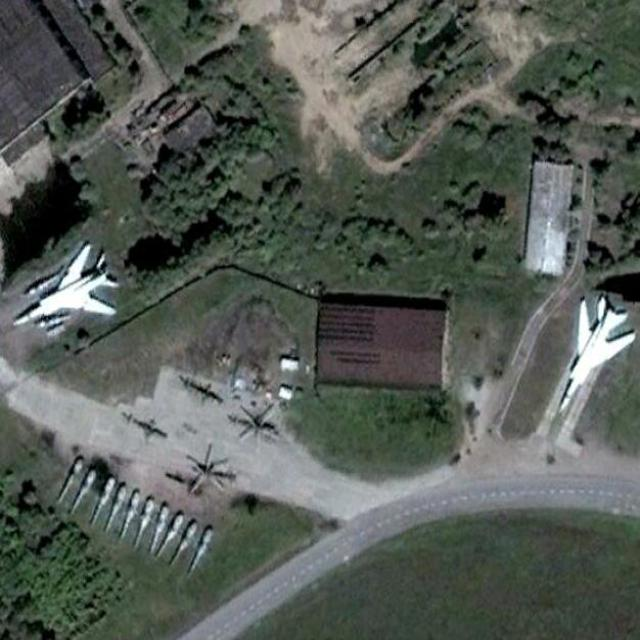fighter jet: (16, 245, 119, 331), (559, 297, 628, 419)
